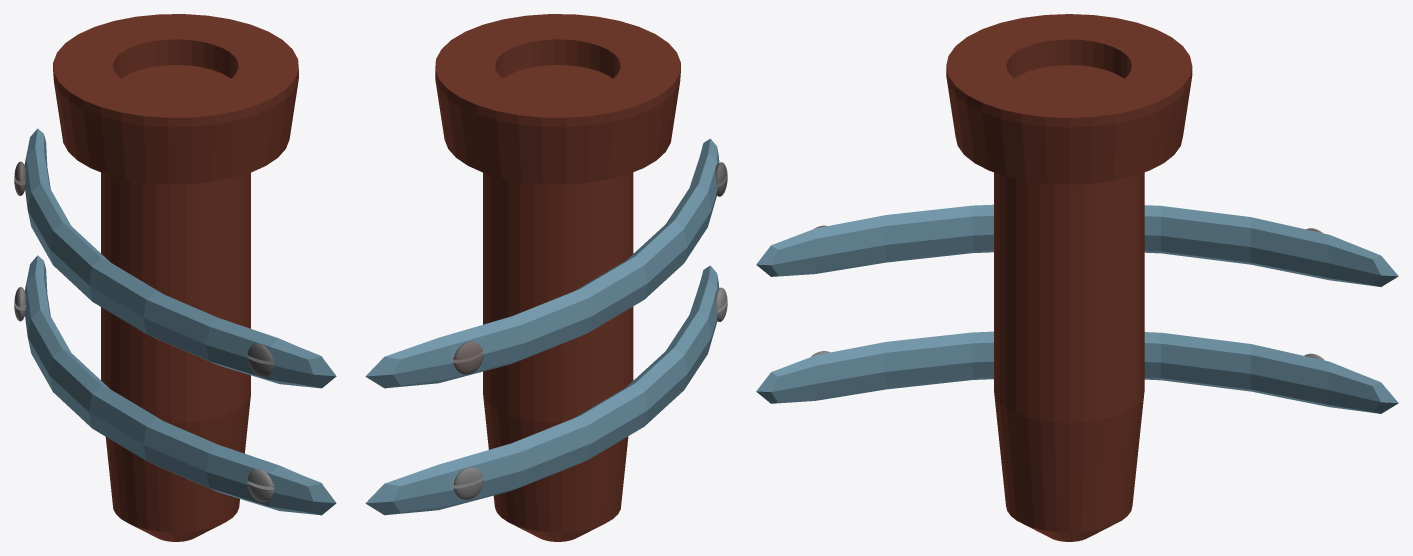
Rendered from LegoAssTorchLol.fbx.
3 views of the same model, side by side, from view 1: azimuth 30°, elevation 25°; view 2: azimuth 150°, elevation 25°; view 3: azimuth 270°, elevation 25° (orthographic).
Parts seen in each view (by area): view 1: Cylinder, Cube, Sphere.003, Sphere.001; view 2: Cylinder, Cube, Sphere.002, Sphere; view 3: Cylinder, Cube.
Boxes of the visible parts, x1=… form: Cylinder: x1=53, y1=14, x2=298, y2=541; Cube: x1=24, y1=128, x2=336, y2=515; Sphere.003: x1=247, y1=469, x2=274, y2=502; Sphere.001: x1=247, y1=343, x2=274, y2=376; Cylinder: x1=435, y1=14, x2=680, y2=541; Cube: x1=365, y1=138, x2=719, y2=515; Sphere.002: x1=450, y1=467, x2=483, y2=499; Sphere: x1=451, y1=341, x2=483, y2=374; Cylinder: x1=946, y1=14, x2=1192, y2=541; Cube: x1=756, y1=204, x2=1398, y2=413.
Size of the model in its own units: 296 by 619 by 774.
